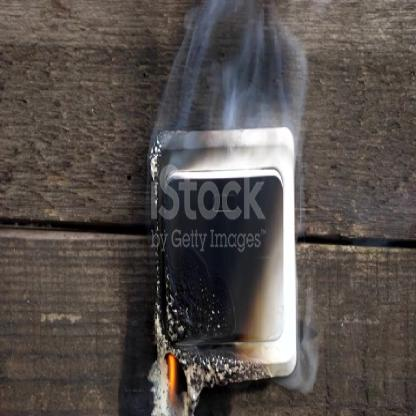fire: (164, 347, 179, 409)
smoke: (143, 3, 308, 241), (275, 275, 325, 393)
